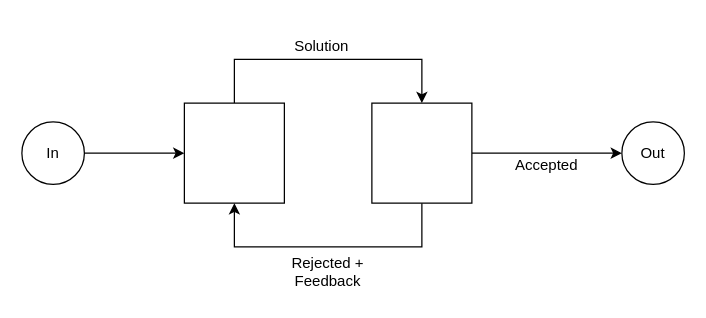
This 706x318 diagram has some shape labels left out. Here are the shapes that lost their labels. From the top down, the box of each, then its label:
(183, 102, 284, 203): LLM Call Generator
(371, 102, 472, 203): LLM Call Evaluator
